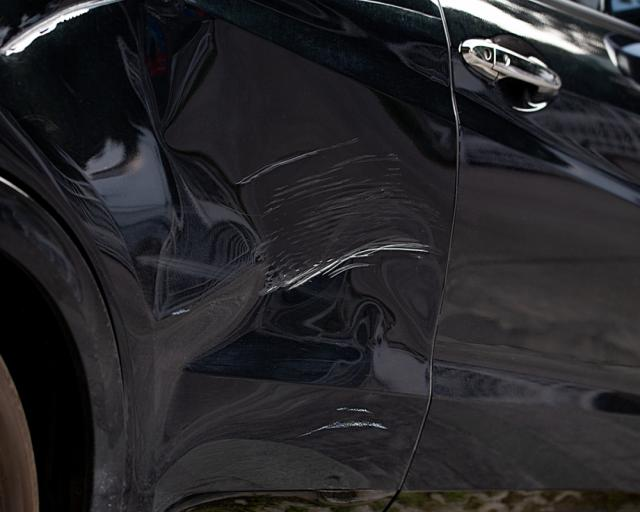dent: (117, 0, 397, 505)
scratch: (230, 137, 445, 272)
